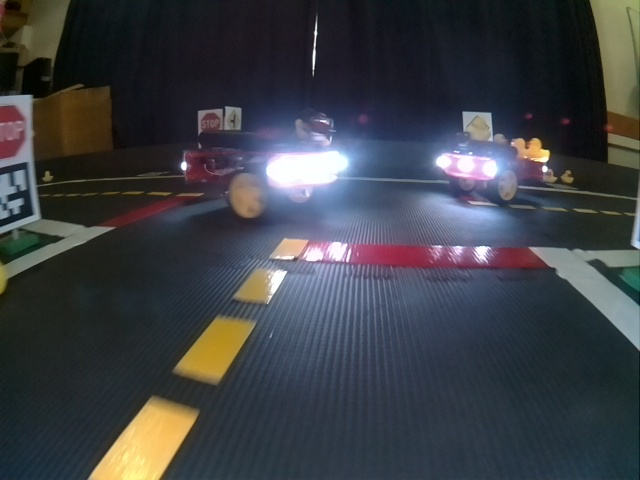Duckie: (544, 169, 557, 183), (562, 170, 573, 182), (44, 172, 52, 180)
Duckiebot: (181, 131, 341, 215), (436, 141, 544, 205)
Intersection sign: (228, 109, 241, 128)
QR code: (1, 165, 37, 228)
Stop sign: (1, 99, 31, 159), (198, 113, 220, 130)
